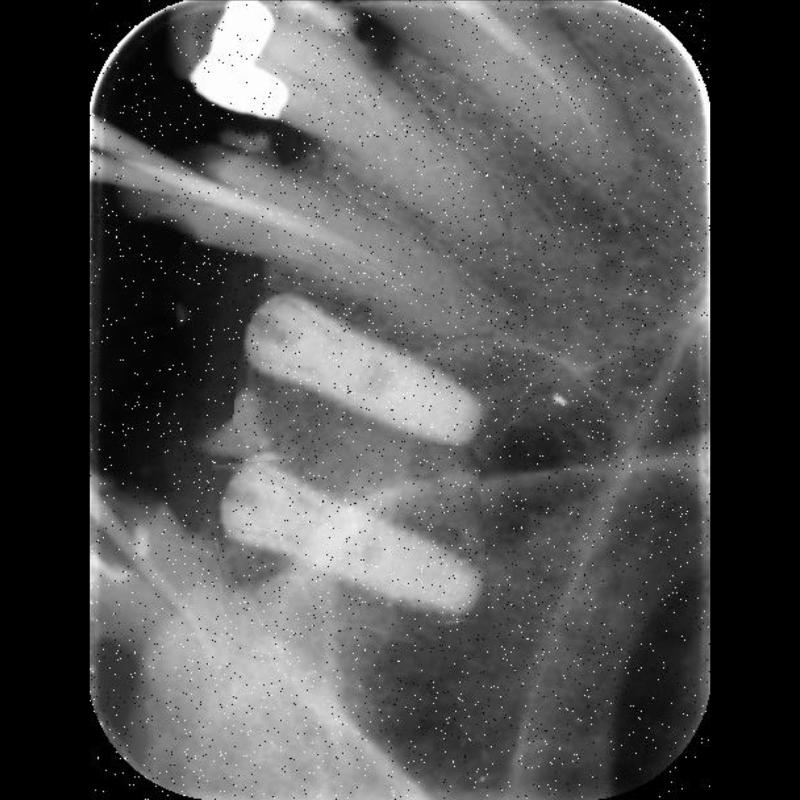Dentium: (215, 446, 487, 634), (238, 292, 494, 444)
